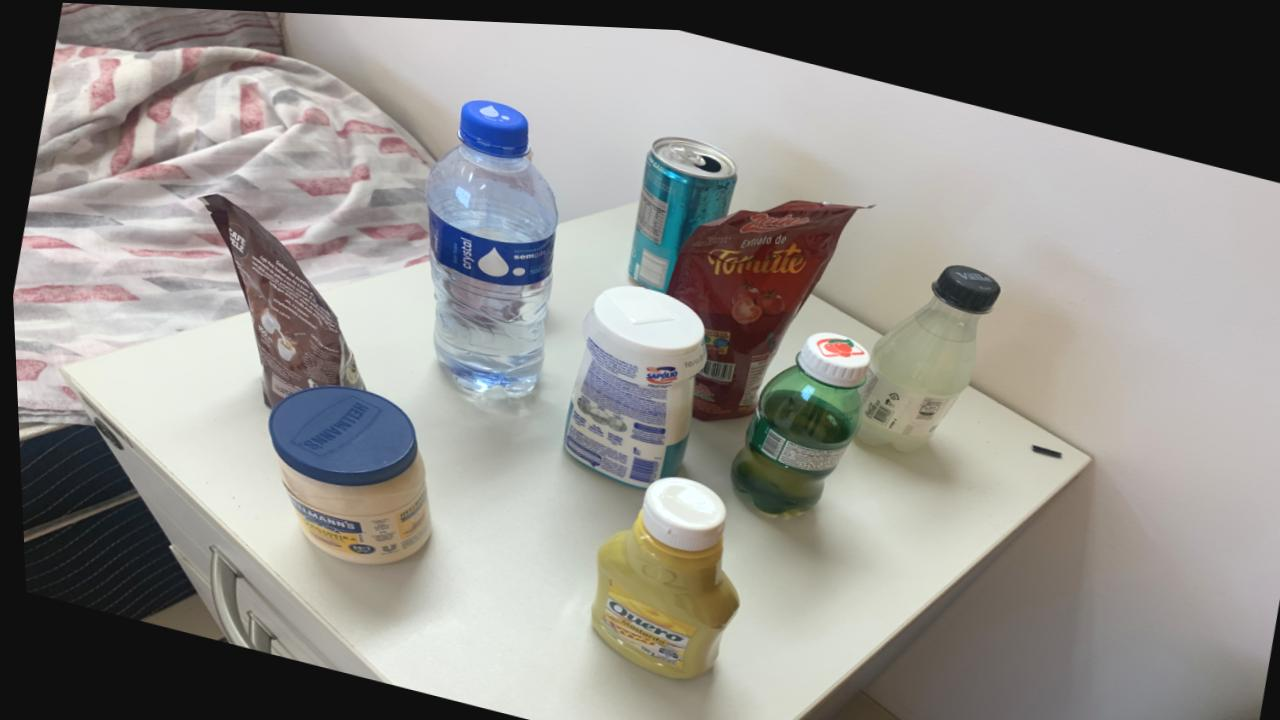Cleaner-Cleanup_Items: (559, 280, 703, 483)
Coffee-Pantry_Items: (197, 192, 360, 405)
Guarana-Drinks: (727, 324, 867, 509)
Mayonnaise-Pantry_Items: (264, 382, 427, 561)
Mustard-Pantry_Items: (585, 470, 733, 673)
Soda-Drinks: (853, 256, 998, 444)
Tea-Drinks: (624, 130, 736, 286)
Tomato_Sauce-Pantry_Items: (665, 193, 860, 415)
Water_Bottle-Drinks: (423, 96, 556, 392)
